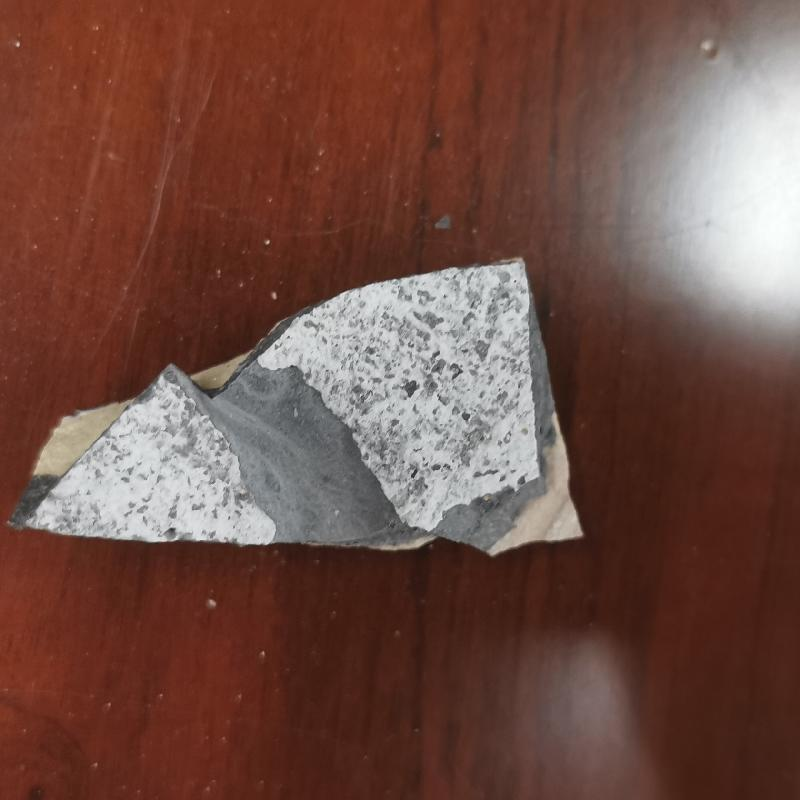tile: (21, 255, 591, 556)
